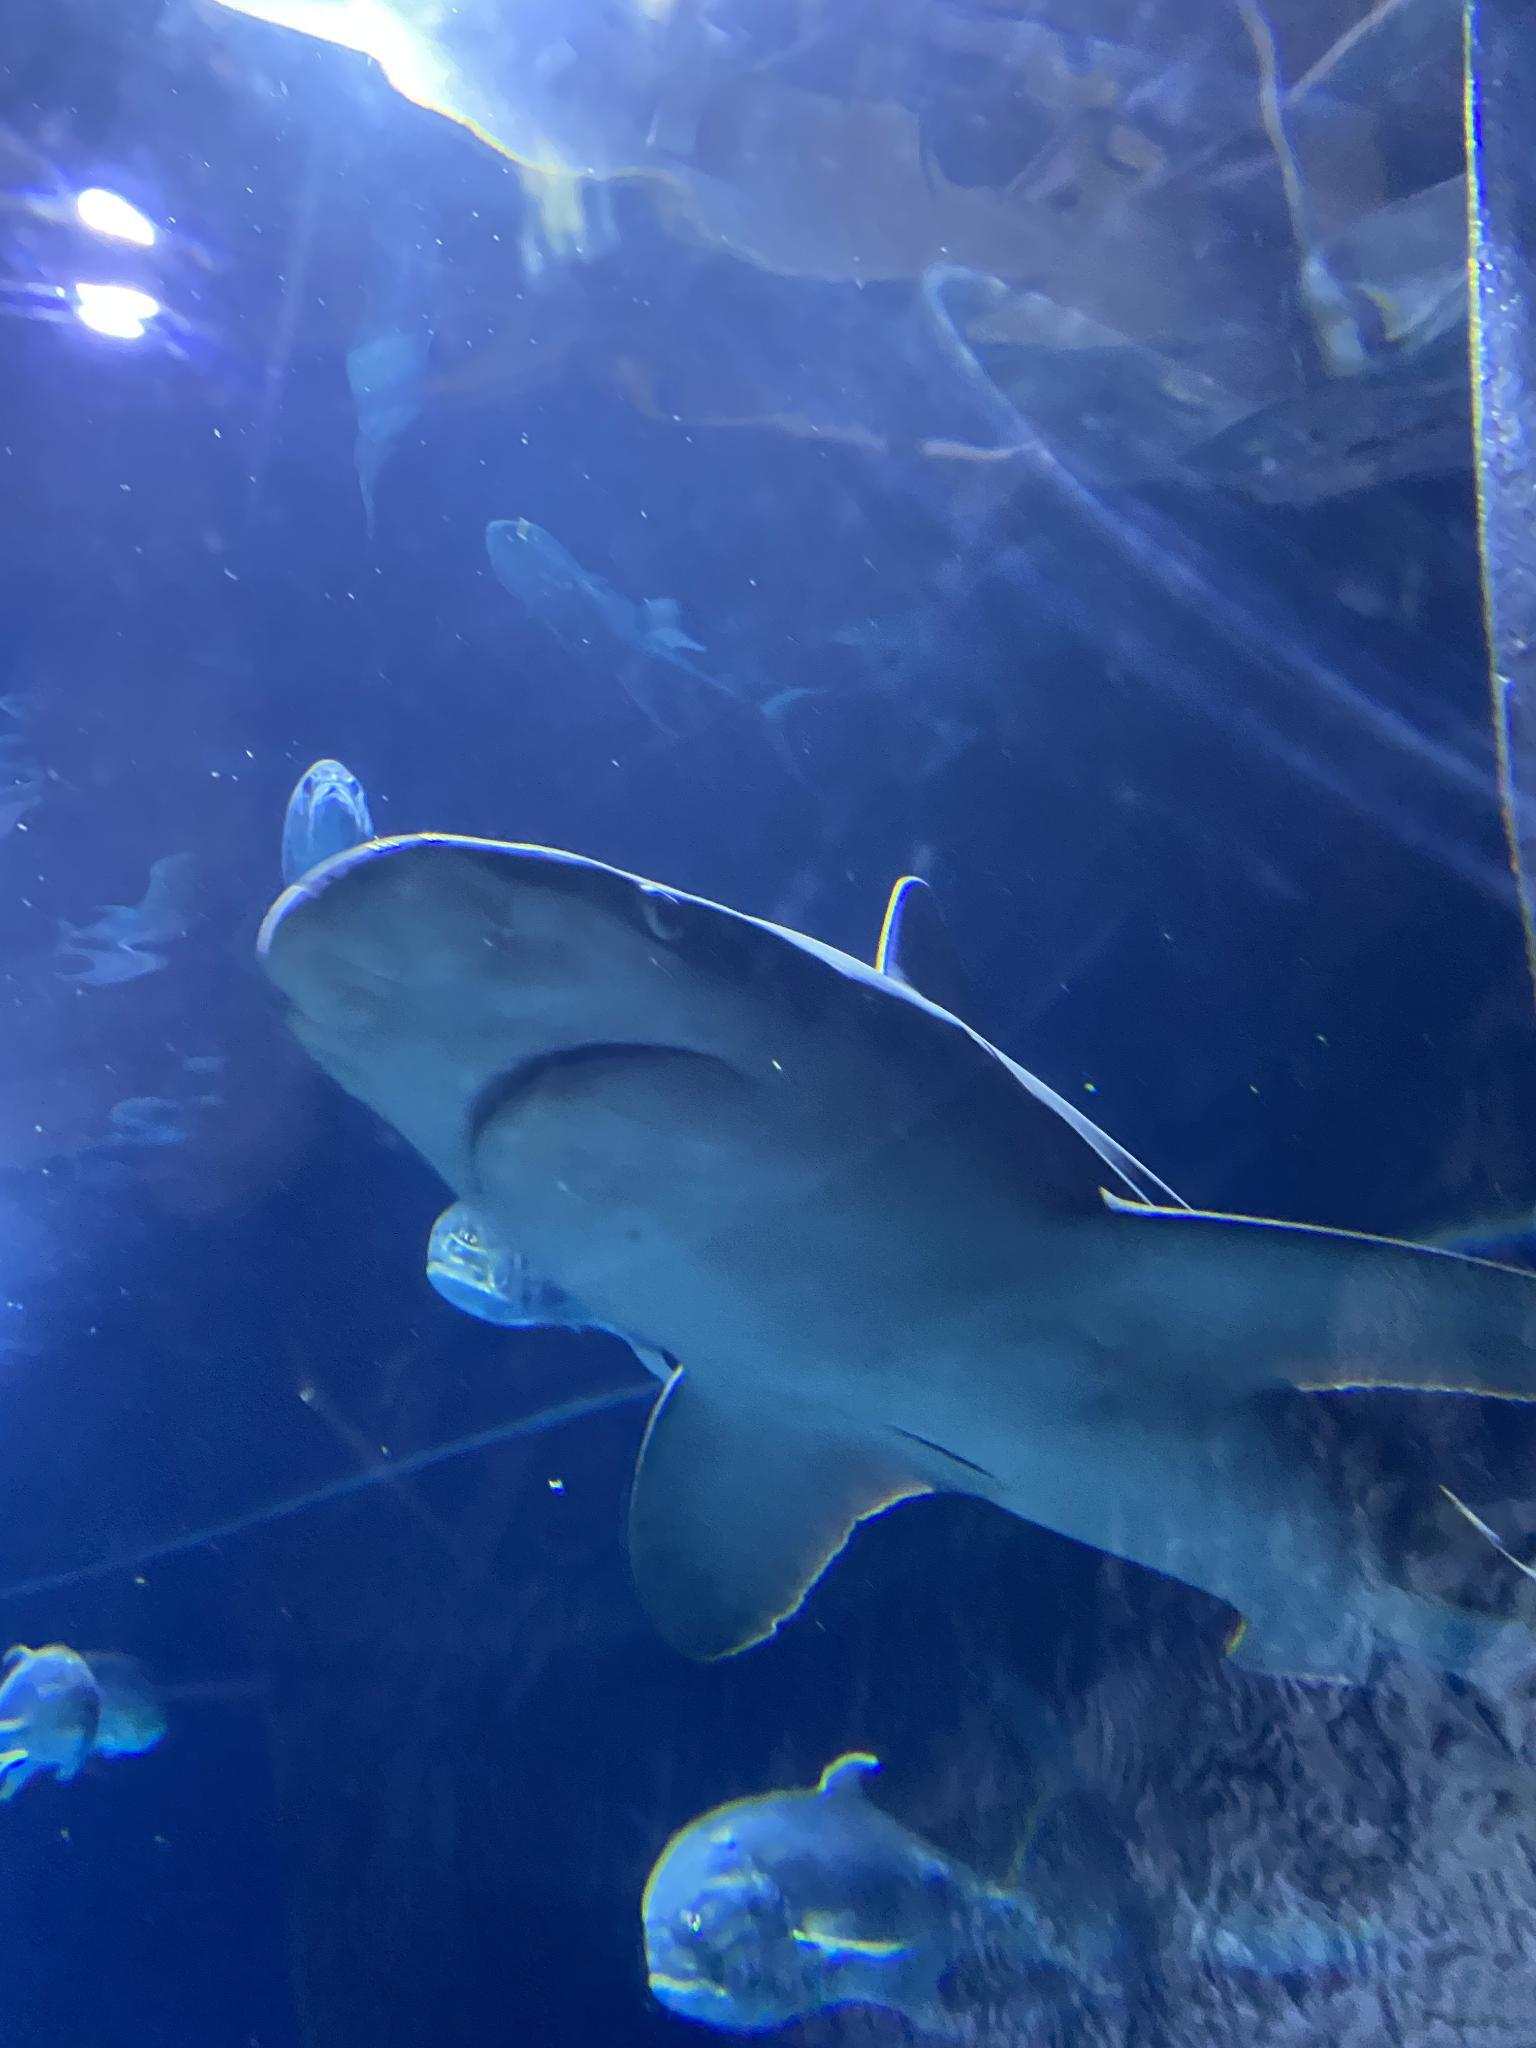fish: (645, 1755, 1062, 2040), (0, 1640, 169, 1798), (282, 756, 369, 897)
shark: (260, 830, 1536, 1705)
